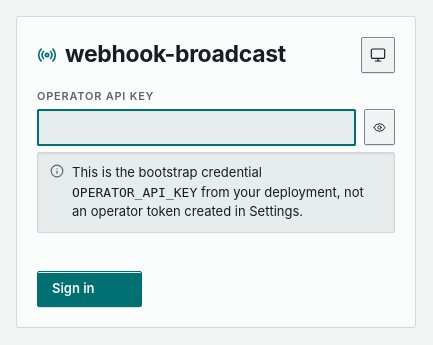
Scenario: LoginPage field error › marks the field invalid, describes it by the error, and takes focus on a rejected submit
Type "wrong-key" into the field labelled "Operator API key" at (196, 128), box [37,109,356,146]
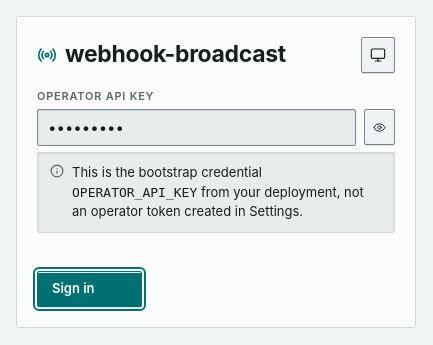
Click the button "Sign in" at (89, 289), box [37,271,142,307]
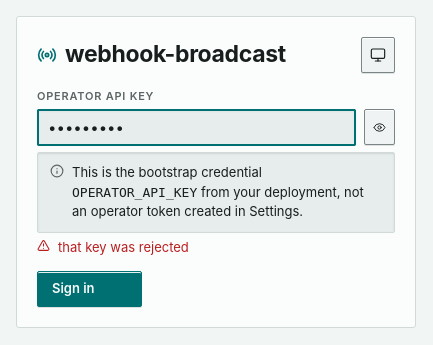
Expected: the message with id "apiKey-error" reads "that key was rejected", [58,239,189,255]
Expected: the icon next to "that key was rejected" is shown, [37,239,50,252]
